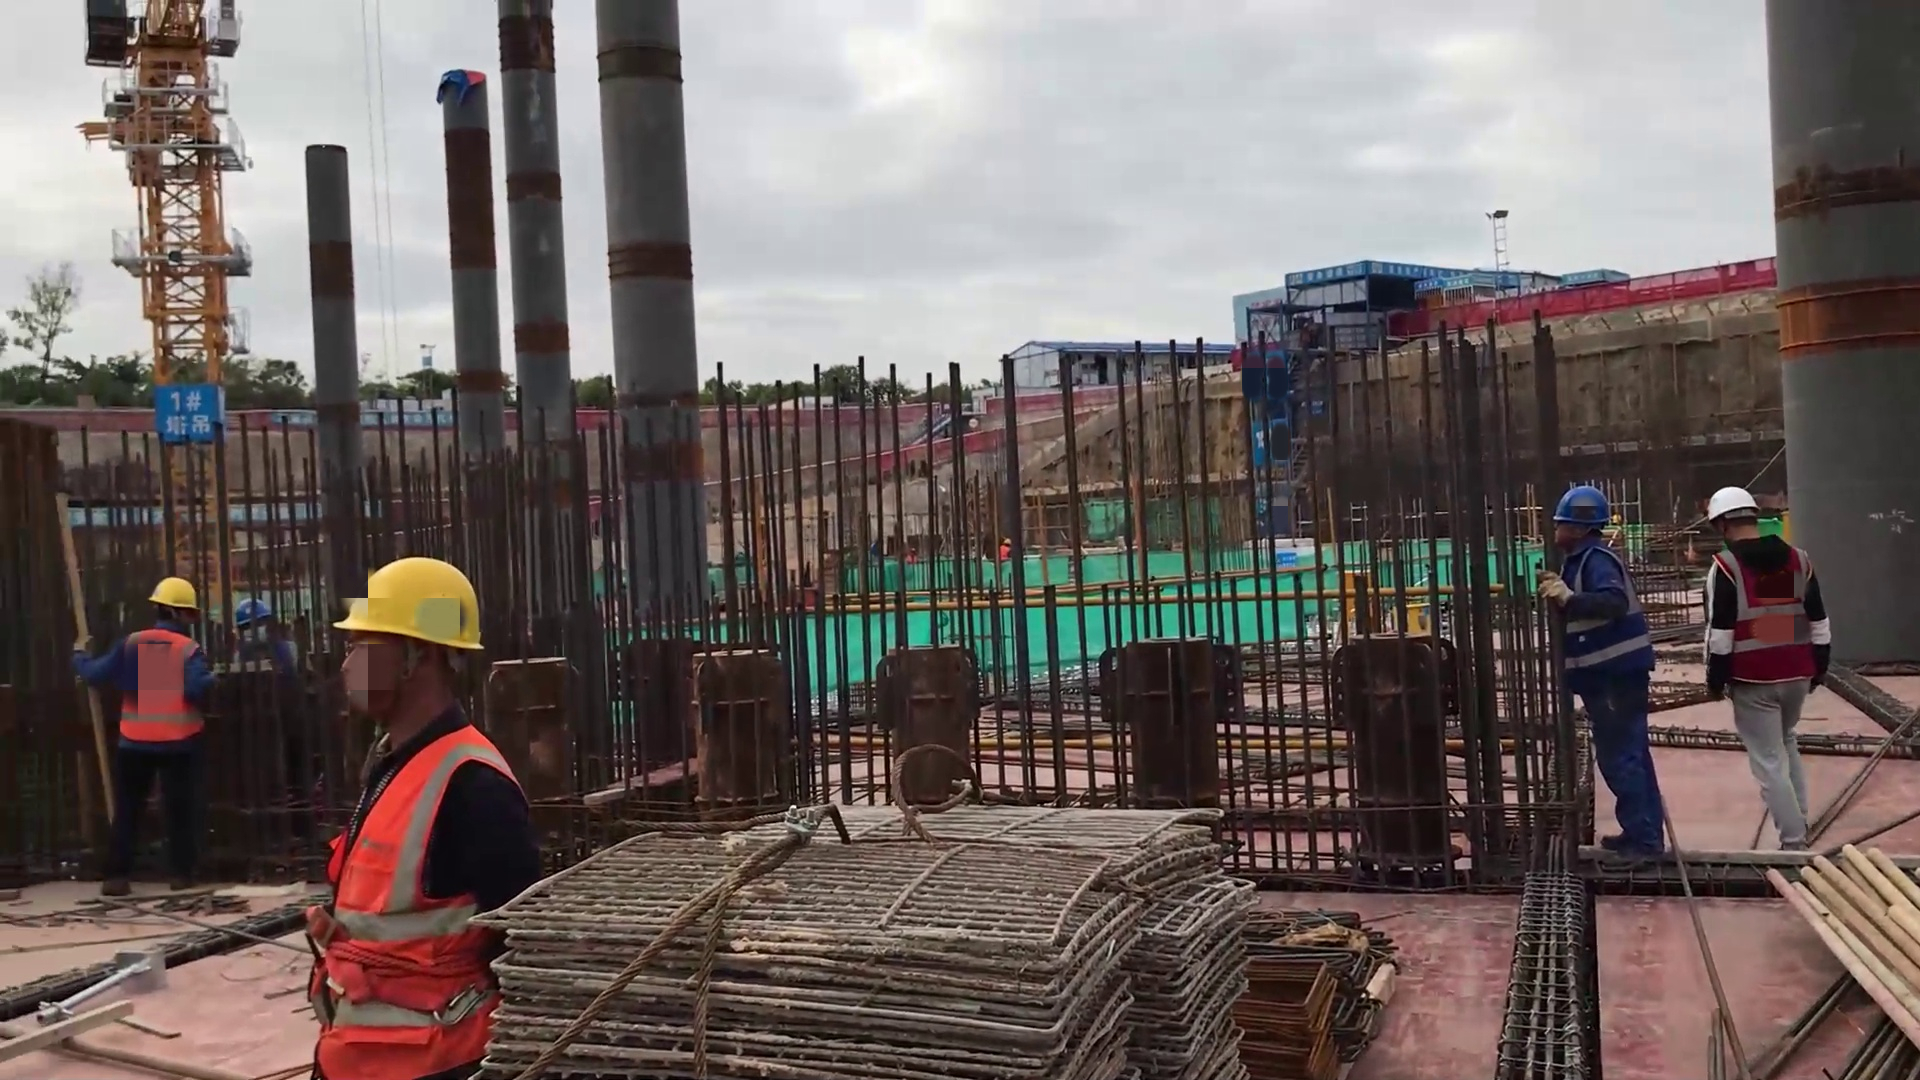ebox: (1335, 569, 1378, 633), (1390, 601, 1432, 637)
helmet: (334, 556, 493, 650), (1552, 485, 1613, 523), (1706, 486, 1760, 521), (148, 577, 198, 611)
person: (302, 556, 546, 1080), (1540, 485, 1664, 872), (1706, 483, 1835, 848), (72, 575, 214, 898), (234, 599, 301, 665)
slogan: (270, 410, 455, 428)
vest: (307, 729, 529, 1080), (1706, 539, 1831, 700), (1558, 548, 1656, 695), (122, 625, 202, 744)
